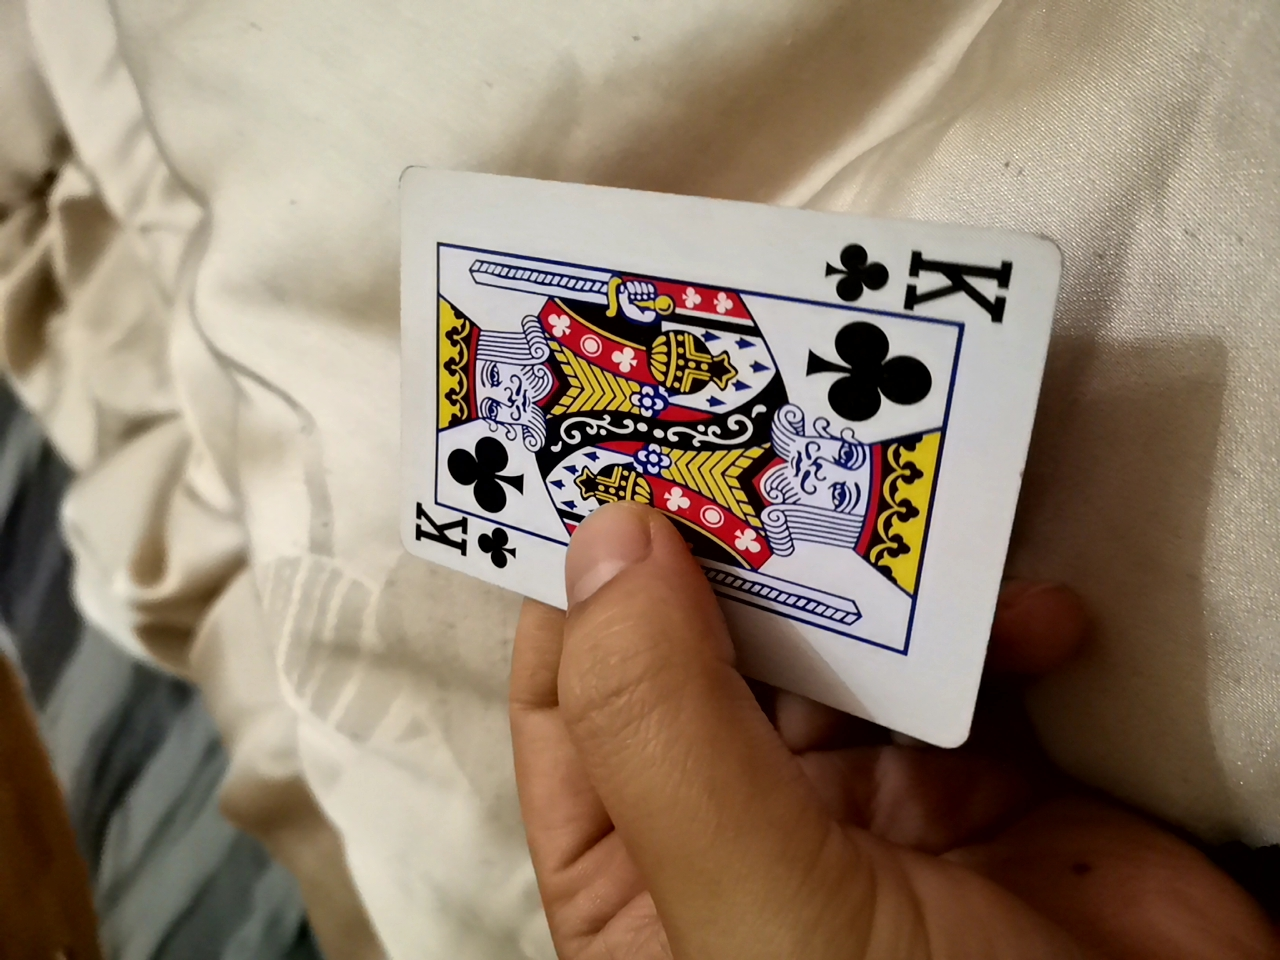mh k: (357, 159, 1050, 765)
